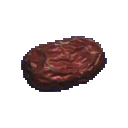gd: (10, 18, 118, 111)
